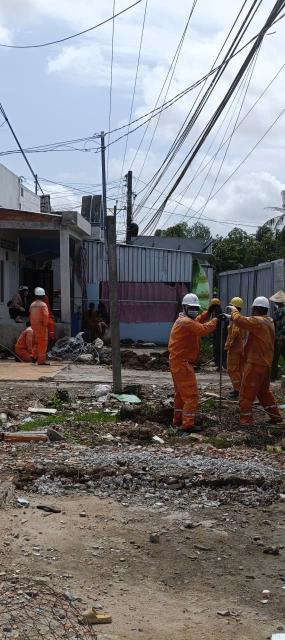gloves: (222, 310, 232, 323)
helmet: (250, 293, 269, 312), (182, 293, 198, 309), (227, 294, 243, 310), (209, 295, 222, 308), (36, 285, 47, 298), (33, 286, 42, 293)
shoes: (179, 422, 202, 435), (229, 389, 240, 400), (27, 354, 37, 365)
